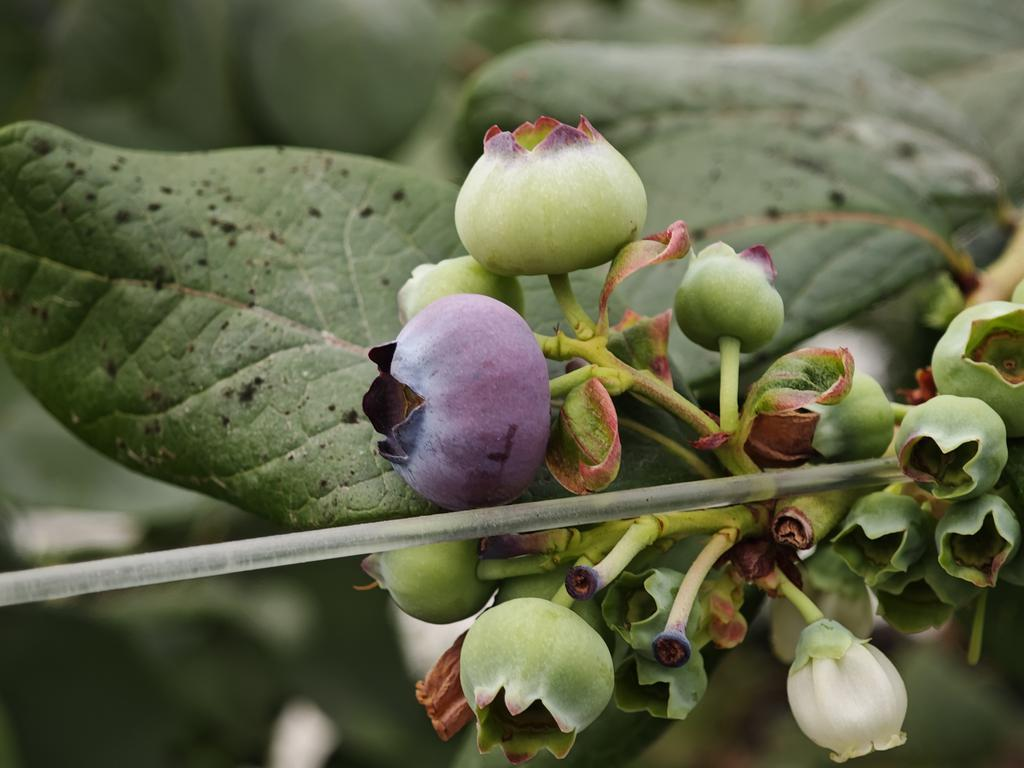Semi-RipeBlueBerry: (368, 293, 554, 512)
UnripeBlueBerry: (450, 111, 651, 276), (458, 593, 619, 765)
